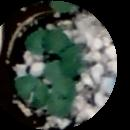Basil: (16, 76, 51, 108), (26, 29, 67, 50), (60, 46, 82, 76), (55, 80, 68, 118)
